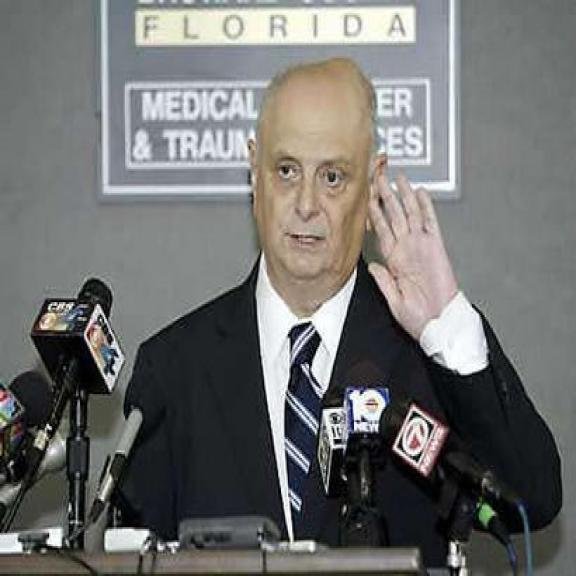face: (249, 92, 391, 278)
